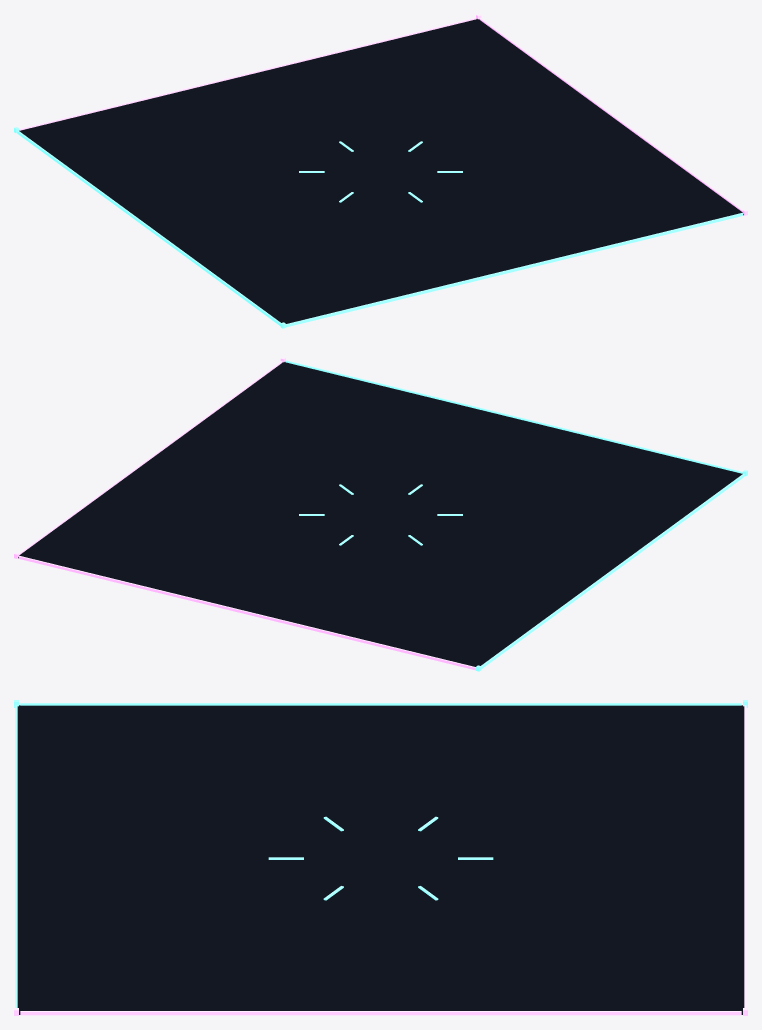
Rendered from bubble-arena-pitch.glb.
3 views of the same model, one above another, from view 1: azimuth 30°, elevation 25°; view 2: azimuth 150°, elevation 25°; view 3: azimuth 270°, elevation 25° (orthographic). The views are drawn at different scales.
Visible parts, largest first — view 1: bubble_arena_floor, bubble_arena_light_negz, bubble_arena_light_posz, bubble_arena_light_a, bubble_arena_light_b; view 2: bubble_arena_floor, bubble_arena_light_posz, bubble_arena_light_negz, bubble_arena_light_a, bubble_arena_light_b; view 3: bubble_arena_floor, bubble_arena_light_b, bubble_arena_light_a, bubble_arena_light_negz, bubble_arena_light_posz.
Part boxes in pixels (left/top/right/bottom): bubble_arena_floor: left=19, top=19, right=743, bottom=323; bubble_arena_light_negz: left=286, top=213, right=743, bottom=327; bubble_arena_light_posz: left=19, top=17, right=476, bottom=130; bubble_arena_light_a: left=17, top=131, right=280, bottom=325; bubble_arena_light_b: left=479, top=18, right=742, bottom=212; bubble_arena_floor: left=18, top=362, right=742, bottom=666; bubble_arena_light_posz: left=18, top=556, right=475, bottom=670; bubble_arena_light_negz: left=285, top=360, right=742, bottom=473; bubble_arena_light_a: left=481, top=474, right=744, bottom=668; bubble_arena_light_b: left=19, top=361, right=282, bottom=555; bubble_arena_floor: left=17, top=705, right=744, bottom=1014; bubble_arena_light_b: left=20, top=1011, right=741, bottom=1015; bubble_arena_light_a: left=20, top=703, right=741, bottom=705; bubble_arena_light_negz: left=15, top=705, right=17, bottom=1007; bubble_arena_light_posz: left=744, top=705, right=746, bottom=1007.
Size of what is drawn, in the model's own units: 32.22 by 0.28 by 32.22.
